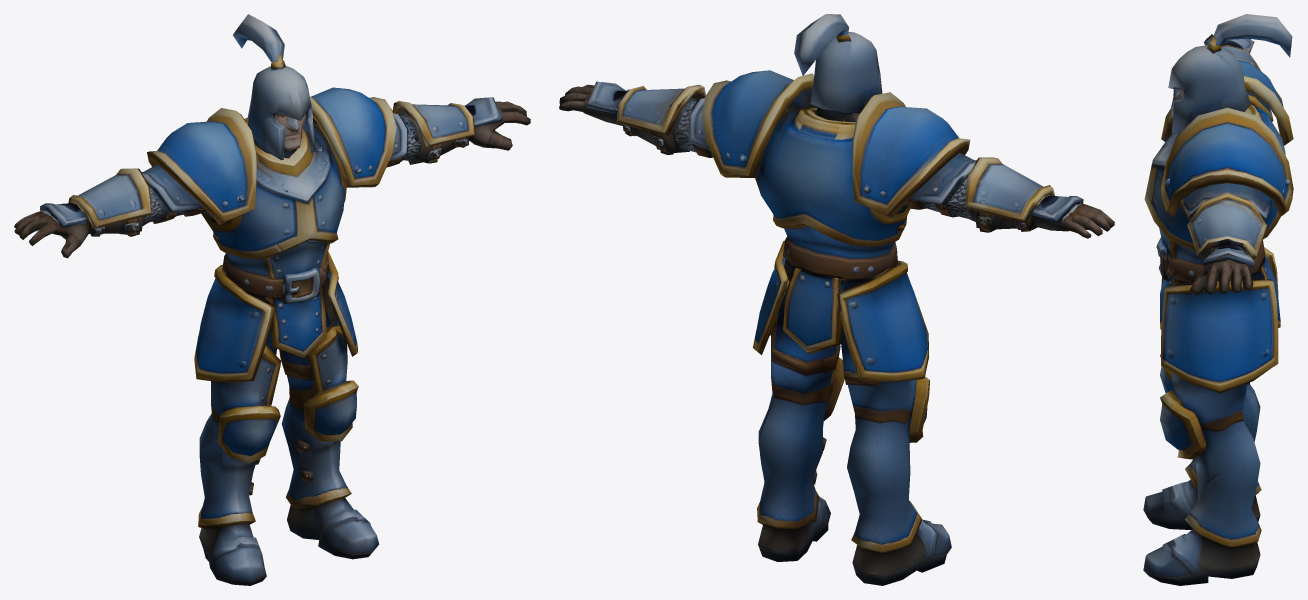
Rendered from tripo_convert_7ee1d346-fa34-426e-b3bb-6448b0d20f13.fbx.
The picture shows the model from 3 angles, left to right: view 1: azimuth 30°, elevation 25°; view 2: azimuth 150°, elevation 25°; view 3: azimuth 270°, elevation 25°; orthographic projection. The views are drawn at different scales.
Parts seen in each view (by area): view 1: tripo_node_7ee1d346; view 2: tripo_node_7ee1d346; view 3: tripo_node_7ee1d346.
Boxes of the visible parts, left/top/right/bottom form: tripo_node_7ee1d346: left=14, top=14, right=530, bottom=585; tripo_node_7ee1d346: left=559, top=14, right=1114, bottom=585; tripo_node_7ee1d346: left=1143, top=14, right=1293, bottom=585.
Bounding box in the file's own units: 99.8 × 24.8 × 97.07.
Materials: 1 (1 with a texture image).
